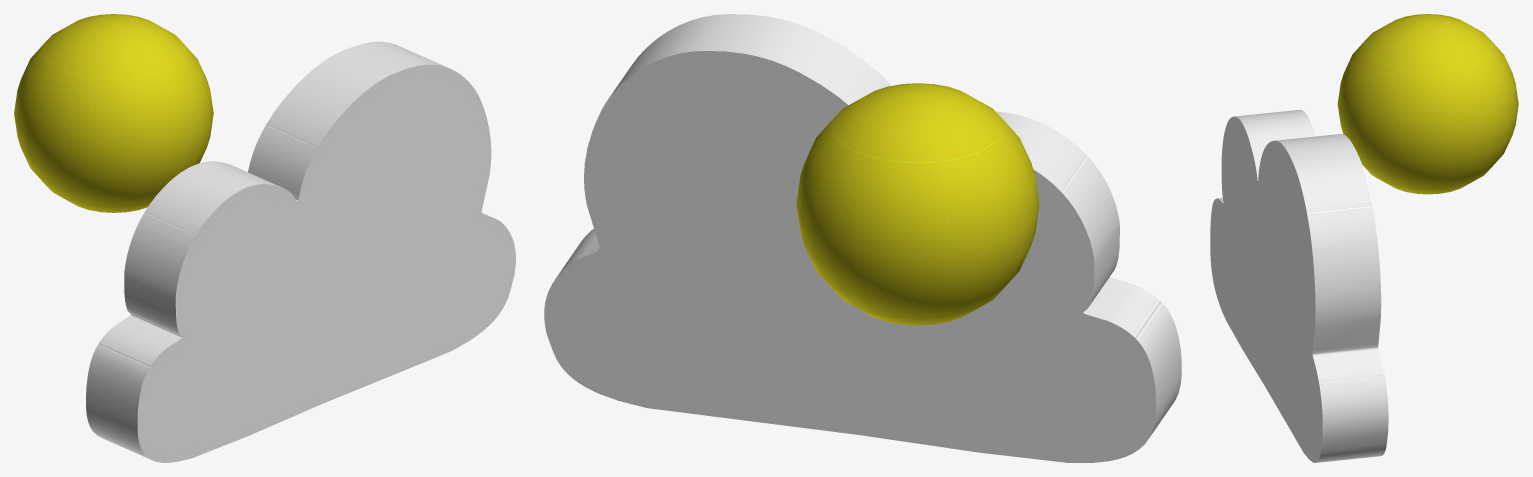
Rendered from 3d_ceu_nuvens.glb.
The picture shows the model from 3 angles, left to right: view 1: azimuth 30°, elevation 25°; view 2: azimuth 150°, elevation 25°; view 3: azimuth 270°, elevation 25°; orthographic projection. The views are drawn at different scales.
Visible parts, largest first — view 1: node_id14, node_id8; view 2: node_id14, node_id8; view 3: node_id14, node_id8.
Part boxes in pixels (x1=…): node_id14: x1=86, y1=41, x2=515, y2=462; node_id8: x1=14, y1=14, x2=213, y2=212; node_id14: x1=544, y1=14, x2=1181, y2=462; node_id8: x1=796, y1=83, x2=1039, y2=325; node_id14: x1=1210, y1=109, x2=1388, y2=462; node_id8: x1=1337, y1=14, x2=1518, y2=194.
Bounding box in the file's own units: 0.5147 × 0.3738 × 0.3326.
Materials: 2 (2 with a texture image).
